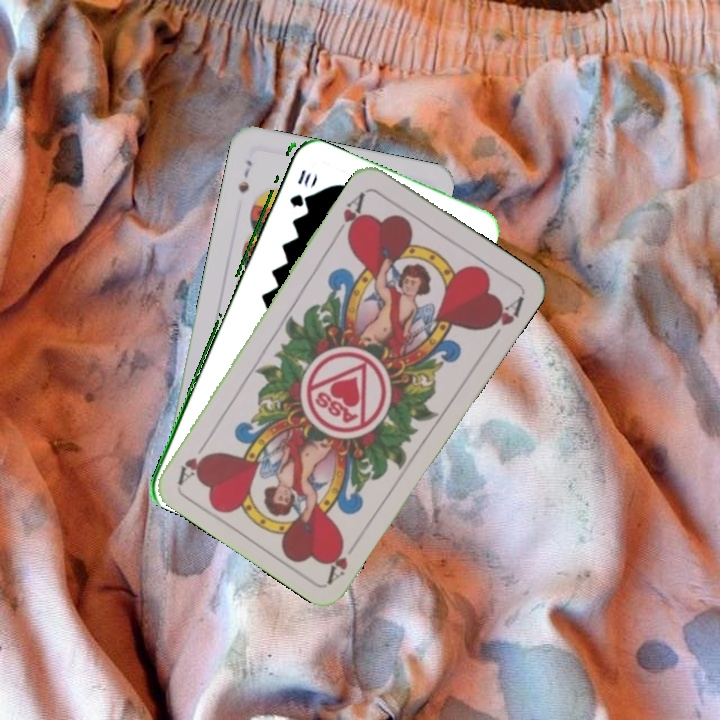G10: (285, 165, 314, 210)
HA: (331, 187, 369, 242), (323, 535, 351, 585)
S7: (234, 156, 255, 195)
